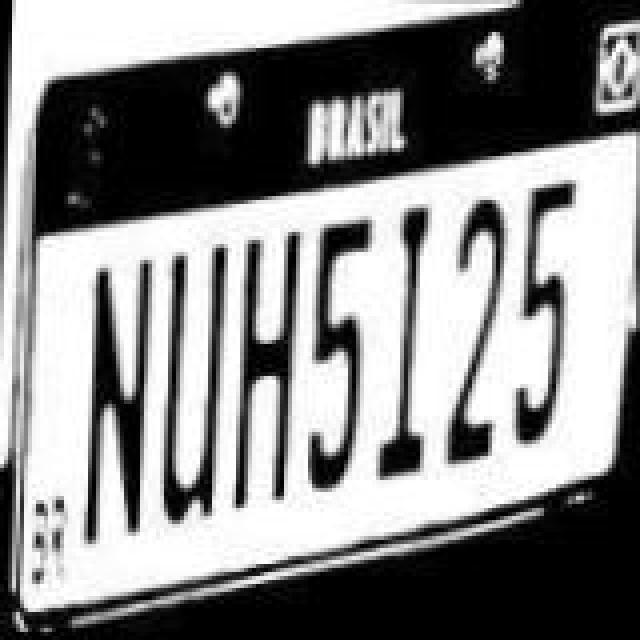2: (438, 172, 518, 460)
5: (304, 192, 380, 480), (514, 162, 586, 434)
H: (226, 208, 310, 500)
I: (372, 182, 448, 474)
N: (78, 240, 162, 552)
U: (150, 222, 234, 526)
